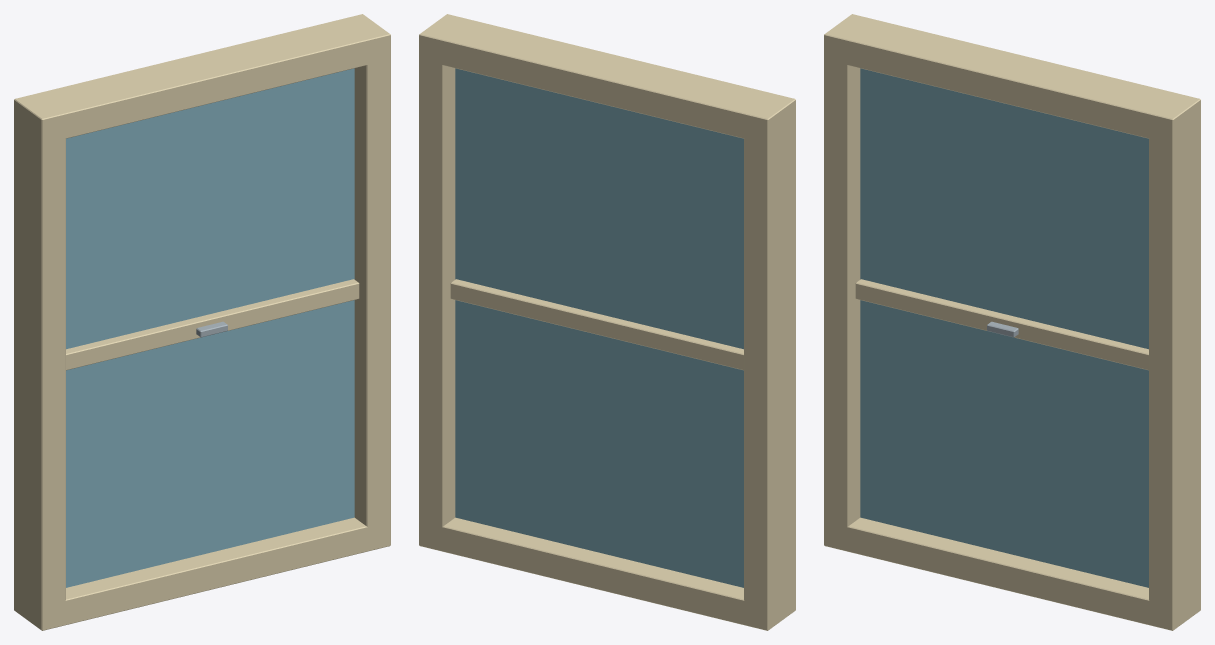
The model's file is b21_window_double_hung_1m.glb.
3 views of the same model, side by side, from view 1: azimuth 30°, elevation 25°; view 2: azimuth 150°, elevation 25°; view 3: azimuth 330°, elevation 25° (orthographic).
Visible parts, largest first — view 1: b21_window_double_hung_1m; view 2: b21_window_double_hung_1m; view 3: b21_window_double_hung_1m.
Boxes of the visible parts, box(x1,y1,x2,y2) form: b21_window_double_hung_1m: box(14, 14, 390, 630); b21_window_double_hung_1m: box(419, 14, 795, 630); b21_window_double_hung_1m: box(824, 14, 1200, 630).
Size of the model in its own units: 1 by 1.4 by 0.14.
